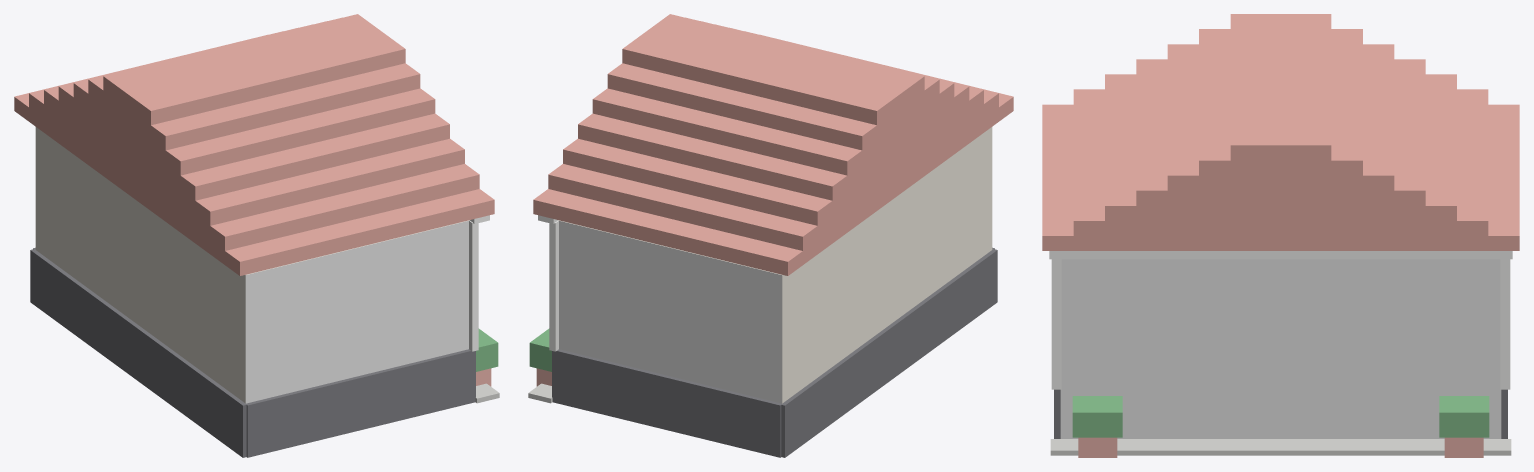
The model's file is FShop_Low_Gable.fbx.
The picture shows the model from 3 angles, left to right: view 1: azimuth 30°, elevation 25°; view 2: azimuth 150°, elevation 25°; view 3: azimuth 270°, elevation 25°; orthographic projection. The views are drawn at different scales.
Visible parts, largest first — view 1: FShop_Low_Gable; view 2: FShop_Low_Gable; view 3: FShop_Low_Gable.
Boxes of the visible parts, x1=… form: FShop_Low_Gable: x1=14, y1=14, x2=499, y2=457; FShop_Low_Gable: x1=528, y1=14, x2=1013, y2=457; FShop_Low_Gable: x1=1042, y1=14, x2=1519, y2=457.
Bounding box in the file's own units: 6 × 6.07 × 8.6.
